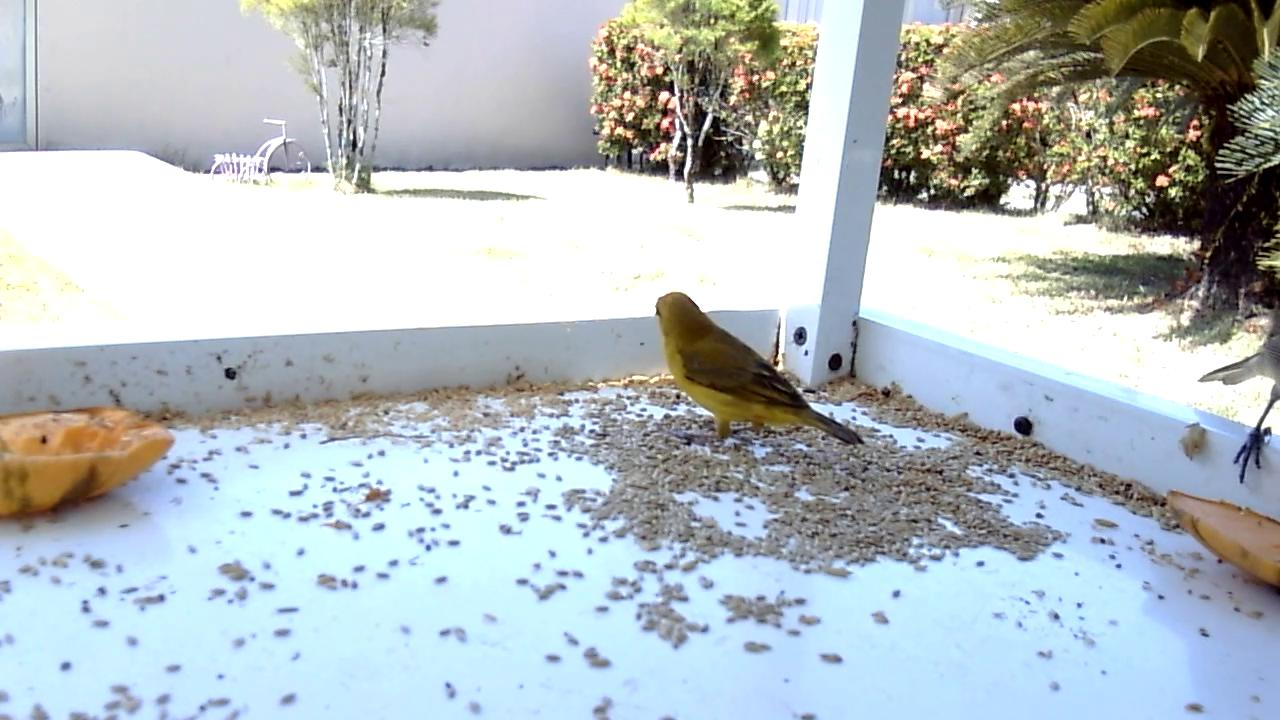canario_do_amazonas: (653, 290, 867, 451)
